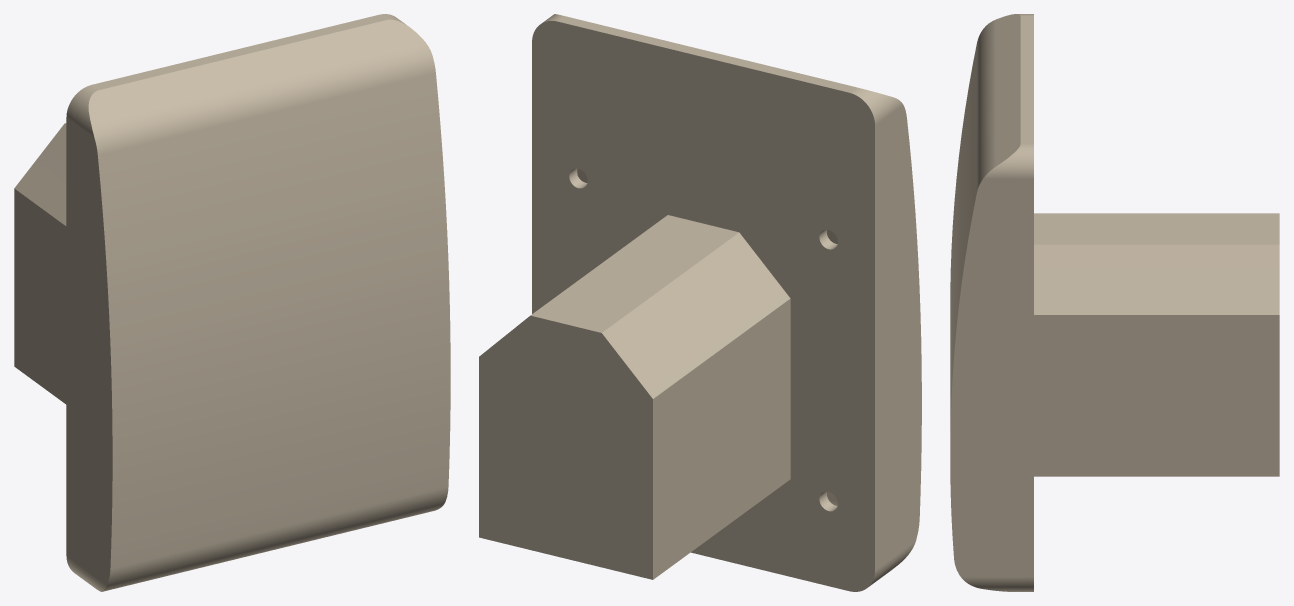
The model's file is POWER ARCHITECTURE__SMARTPLUG INLET SYSTEM__50amp inlet.glb.
3 renders of one model, left to right at view 1: azimuth 30°, elevation 25°; view 2: azimuth 150°, elevation 25°; view 3: azimuth 270°, elevation 25°, orthographic. The views are drawn at different scales.
Parts seen in each view (by area): view 1: 50amp inlet; view 2: 50amp inlet; view 3: 50amp inlet.
Boxes of the visible parts, left/top/right/bottom form: 50amp inlet: left=14, top=14, right=450, bottom=591; 50amp inlet: left=479, top=14, right=921, bottom=591; 50amp inlet: left=950, top=14, right=1279, bottom=591.
Bounding box in the file's own units: 0.085 × 0.118 × 0.0791.
